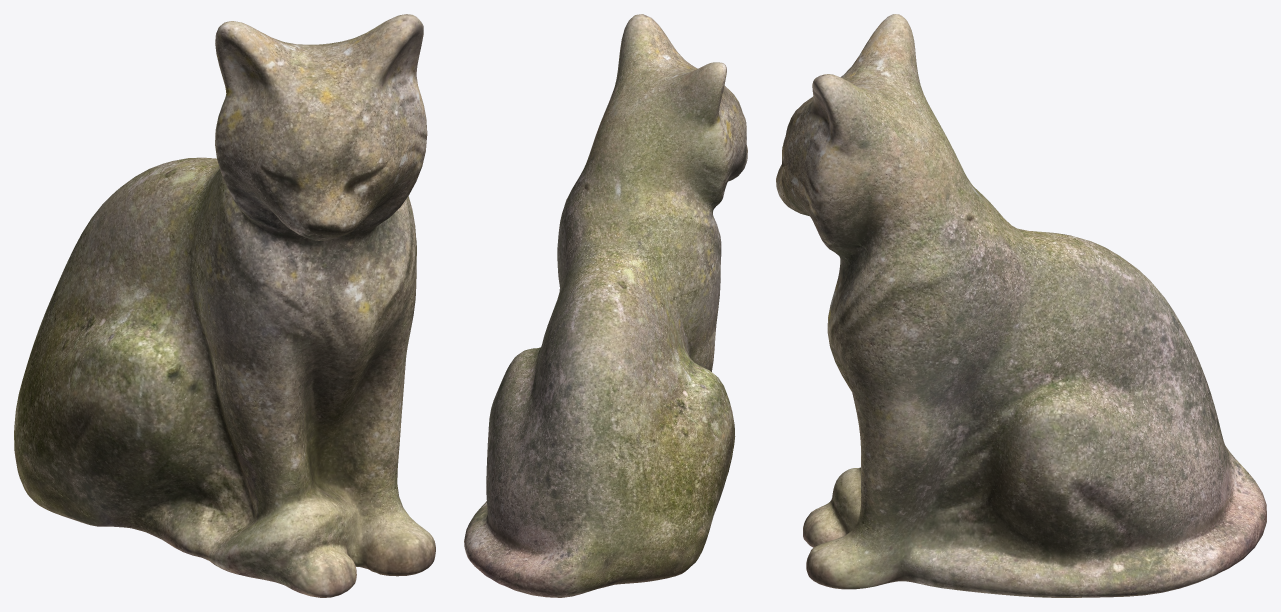
Rendered from concrete_cat_statue_1k.obj.
3 views of the same model, side by side, from view 1: azimuth 30°, elevation 25°; view 2: azimuth 150°, elevation 25°; view 3: azimuth 270°, elevation 25° (orthographic). The views are drawn at different scales.
Visible parts, largest first — view 1: concrete_cat_statue; view 2: concrete_cat_statue; view 3: concrete_cat_statue.
Boxes of the visible parts, x1,y1,x2,y2 form: concrete_cat_statue: (14,14,435,597); concrete_cat_statue: (464,14,747,597); concrete_cat_statue: (776,14,1266,597).
Bounding box in the file's own units: 0.153 × 0.283 × 0.25.
1 material, 1 textured.
